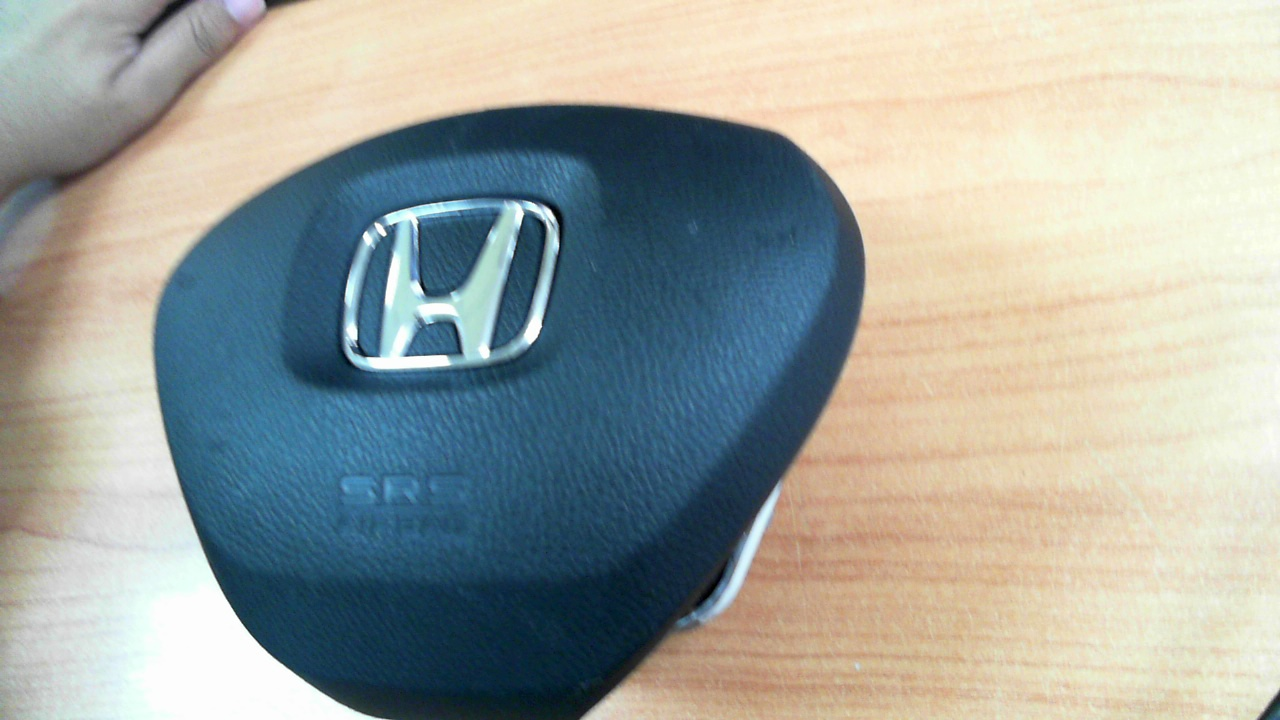Airbag: (151, 104, 867, 715)
Honda: (343, 197, 561, 372)
